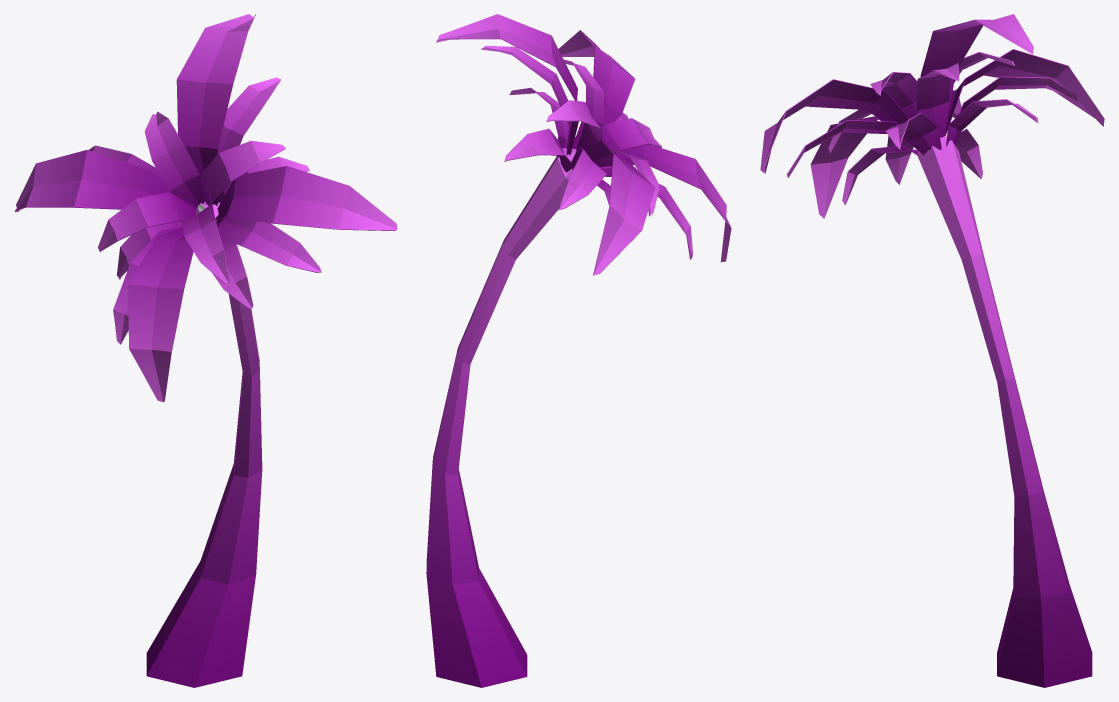
File: miami_palm_001.FBX
The picture shows the model from 3 angles, left to right: view 1: azimuth 30°, elevation 25°; view 2: azimuth 150°, elevation 25°; view 3: azimuth 270°, elevation 25°; orthographic projection. The views are drawn at different scales.
Parts seen in each view (by area): view 1: palm 003; view 2: palm 003; view 3: palm 003.
Part boxes in pixels (x1,y1,x2,y2): palm 003: (14,14,397,687); palm 003: (426,14,731,687); palm 003: (760,14,1104,687).
Bounding box in the file's own units: 87.24 × 236 × 112.
